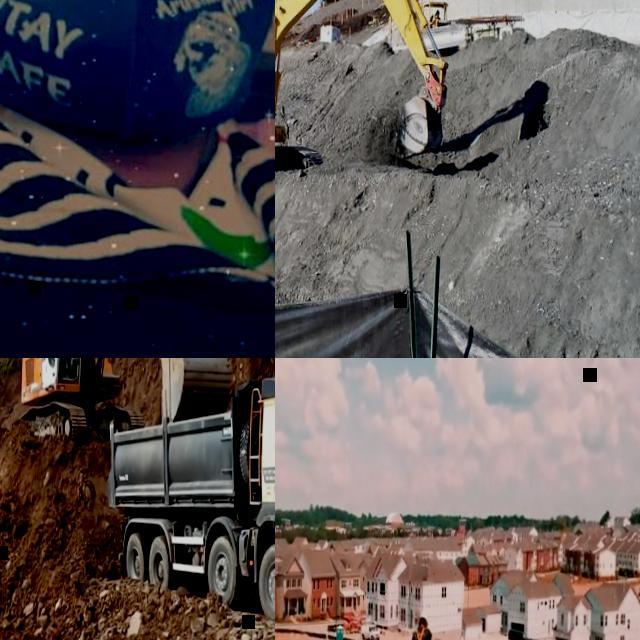helmet: (418, 612, 428, 624)
vest: (432, 14, 439, 22)
